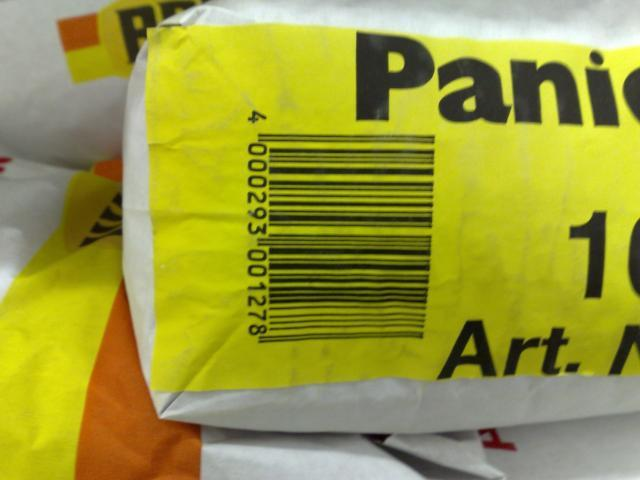Barcode: (238, 105, 435, 349)
